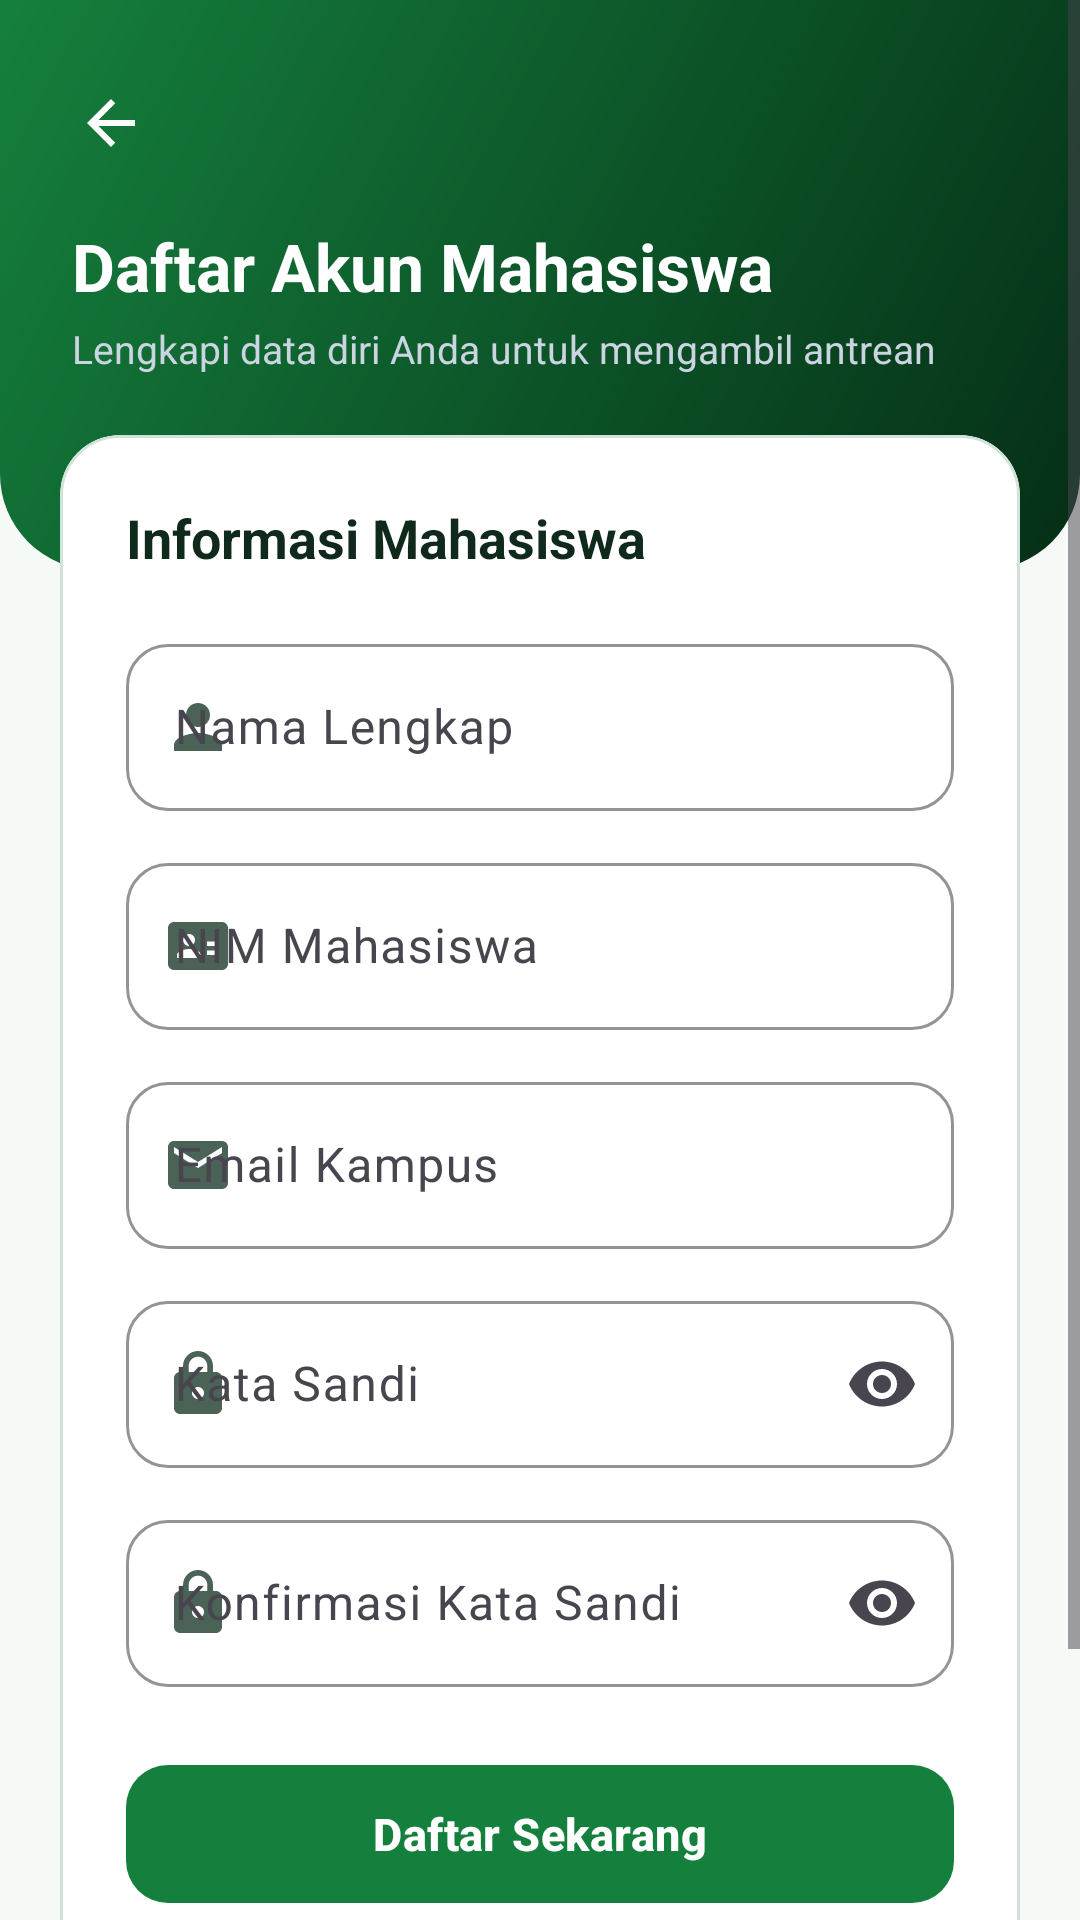

Named icons in this screenshot (1080×1920) and their bounding boxes, [left=x1, top=y1, right=x2, bottom=y2]:
Kembali ke Halaman Masuk: [left=87, top=99, right=135, bottom=147]
